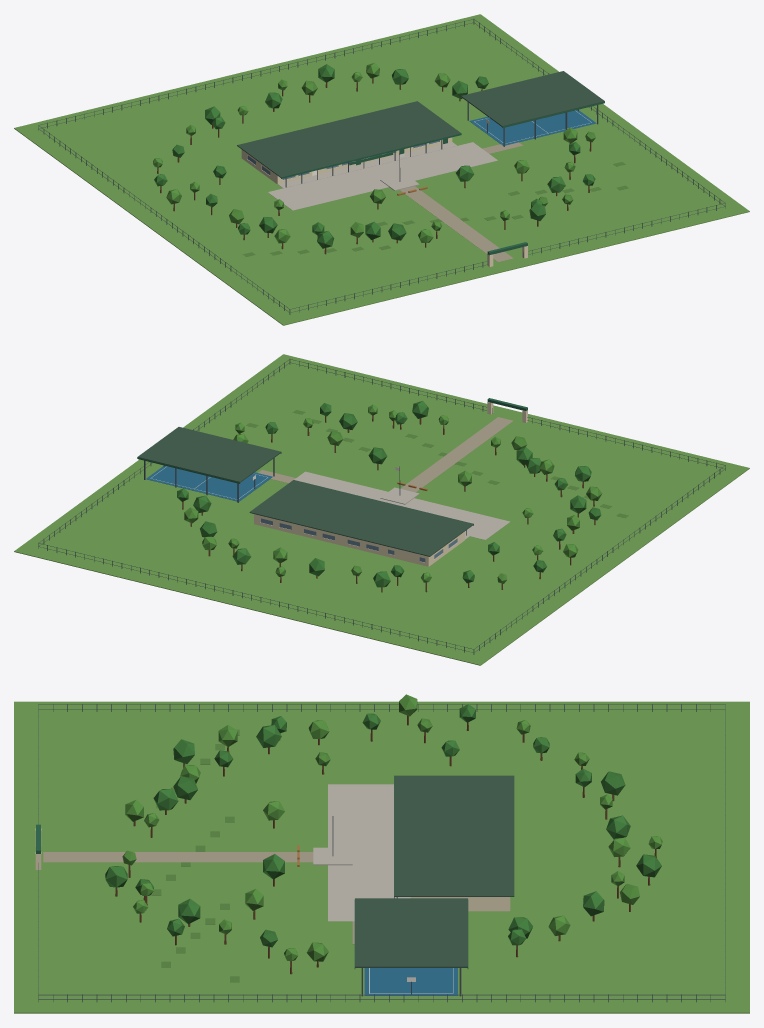
The model's file is bayanihan-school.glb.
3 renders of one model, top to bottom at view 1: azimuth 30°, elevation 25°; view 2: azimuth 150°, elevation 25°; view 3: azimuth 270°, elevation 25°, orthographic. The views are drawn at different scales.
Parts seen in each view (by area): view 1: grass, roof, concrete, leaf, metal, leaf2, court, path, wall, trim, grassDark, trunk; view 2: grass, roof, leaf, metal, leaf2, concrete, wall, court, path, grassDark, trunk; view 3: grass, roof, concrete, leaf, leaf2, metal, path, court, grassDark, trunk, wall.
Boxes of the visible parts, bbox=[...] form: grass: bbox=[14, 14, 749, 325]; roof: bbox=[237, 71, 604, 177]; concrete: bbox=[268, 142, 497, 210]; leaf: bbox=[154, 64, 595, 248]; metal: bbox=[38, 19, 725, 314]; leaf2: bbox=[153, 62, 595, 243]; court: bbox=[469, 110, 596, 145]; path: bbox=[400, 142, 522, 262]; wall: bbox=[241, 137, 527, 266]; trim: bbox=[281, 97, 604, 255]; grassDark: bbox=[243, 162, 628, 256]; trunk: bbox=[157, 78, 591, 254]; grass: bbox=[14, 354, 749, 665]; roof: bbox=[137, 427, 473, 556]; leaf: bbox=[177, 401, 601, 587]; metal: bbox=[38, 359, 725, 654]; leaf2: bbox=[184, 404, 602, 583]; concrete: bbox=[294, 471, 510, 539]; wall: bbox=[254, 402, 527, 566]; court: bbox=[146, 466, 272, 501]; path: bbox=[258, 417, 513, 492]; grassDark: bbox=[246, 410, 628, 517]; trunk: bbox=[182, 415, 595, 592]; grass: bbox=[14, 701, 749, 1013]; roof: bbox=[355, 775, 514, 967]; concrete: bbox=[313, 784, 410, 921]; leaf: bbox=[105, 704, 661, 947]; leaf2: bbox=[122, 694, 662, 961]; metal: bbox=[38, 704, 725, 1002]; path: bbox=[43, 852, 354, 944]; court: bbox=[364, 968, 457, 995]; grassDark: bbox=[151, 729, 239, 982]; trunk: bbox=[115, 715, 656, 974]; wall: bbox=[35, 828, 510, 911].
Size of what is drawn, in the model's own units: 150 by 9.45 by 150.
